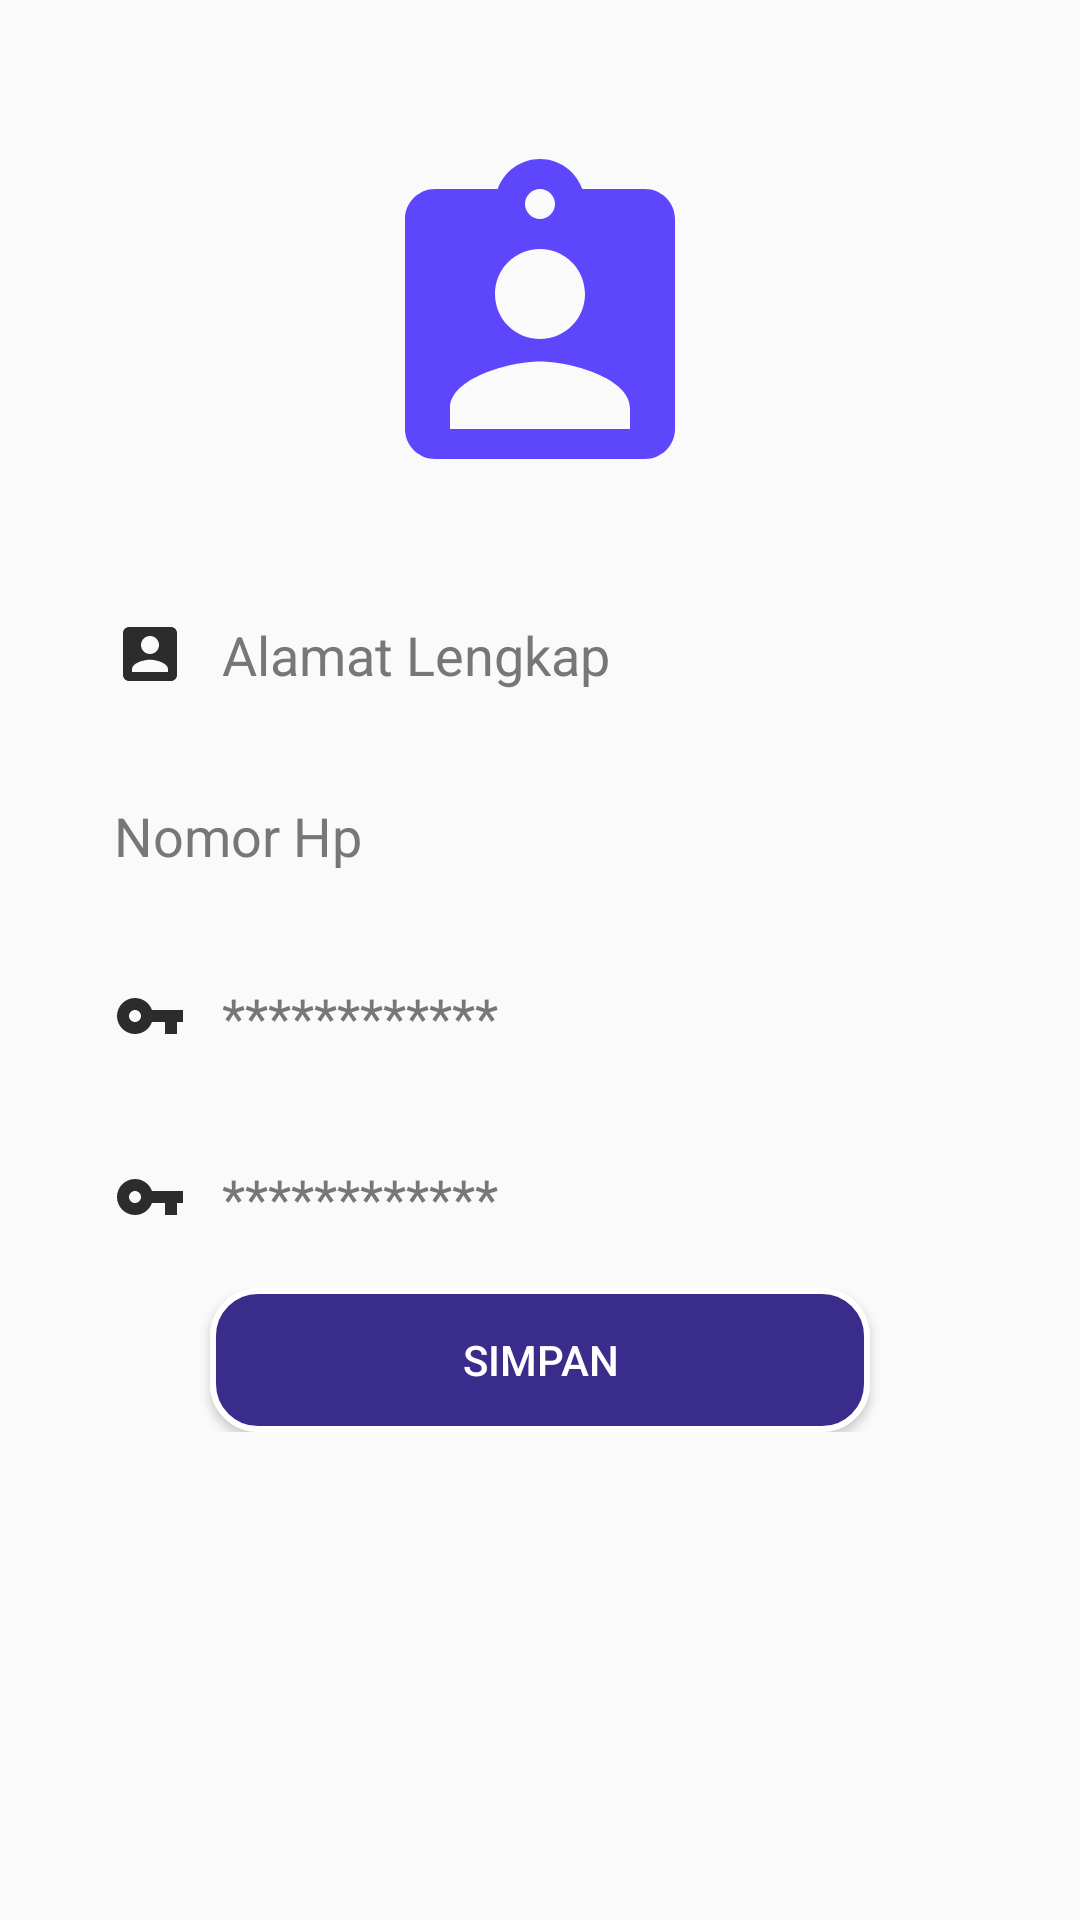

Icon click points for this 1080x1920 phone screenshot, format (x,y):
assignment ind: (540,309)
